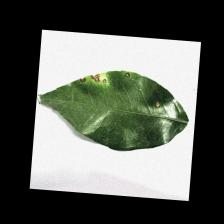canker: (74, 66, 169, 114)
